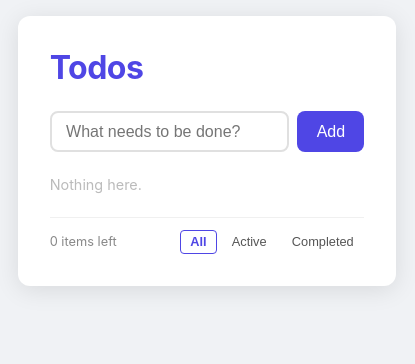
Test: App — filter tabs › filters to active todos only
In the field named "new todo": point(170, 132) left=50, top=111, right=290, bottom=152, type "Task A"
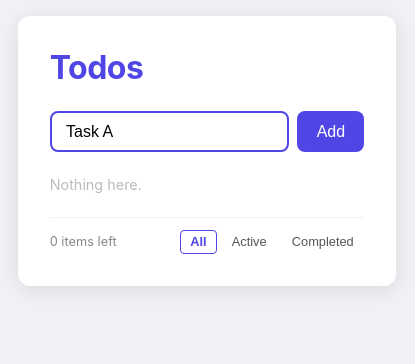
Click the button "Add": point(331, 132) left=298, top=111, right=364, bottom=152
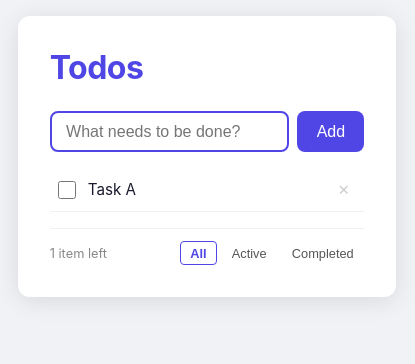
Expected: the text "Task A" is shown, left=88, top=180, right=136, bottom=199
In the field named "new todo": point(170, 132) left=50, top=111, right=290, bottom=152, type "Task B"
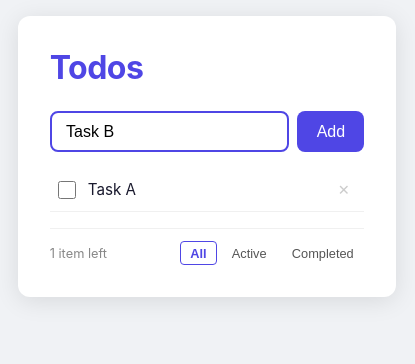
Click the button "Add": point(331, 132) left=298, top=111, right=364, bottom=152
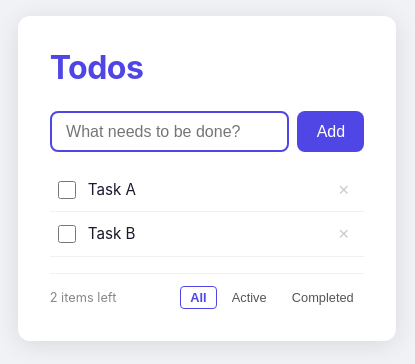
Expected: the text "Task B" is shown, left=88, top=224, right=136, bottom=243
// Complete Task A
Click the checkbox named "mark \"task a\"": point(67, 190) left=58, top=181, right=76, bottom=199
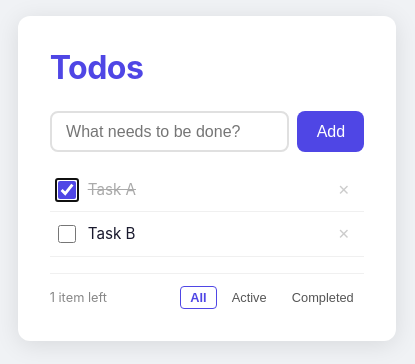
Expected: the checkbox named "mark \"task a\"" is checked, left=58, top=181, right=76, bottom=199
// Filter to Active
Click the button "Active": point(249, 297) left=221, top=286, right=277, bottom=309
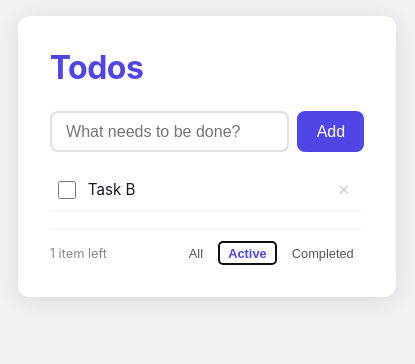
Expected: the text "Task B" is shown, left=88, top=180, right=136, bottom=199
Expected: the text "Task A" is gone
